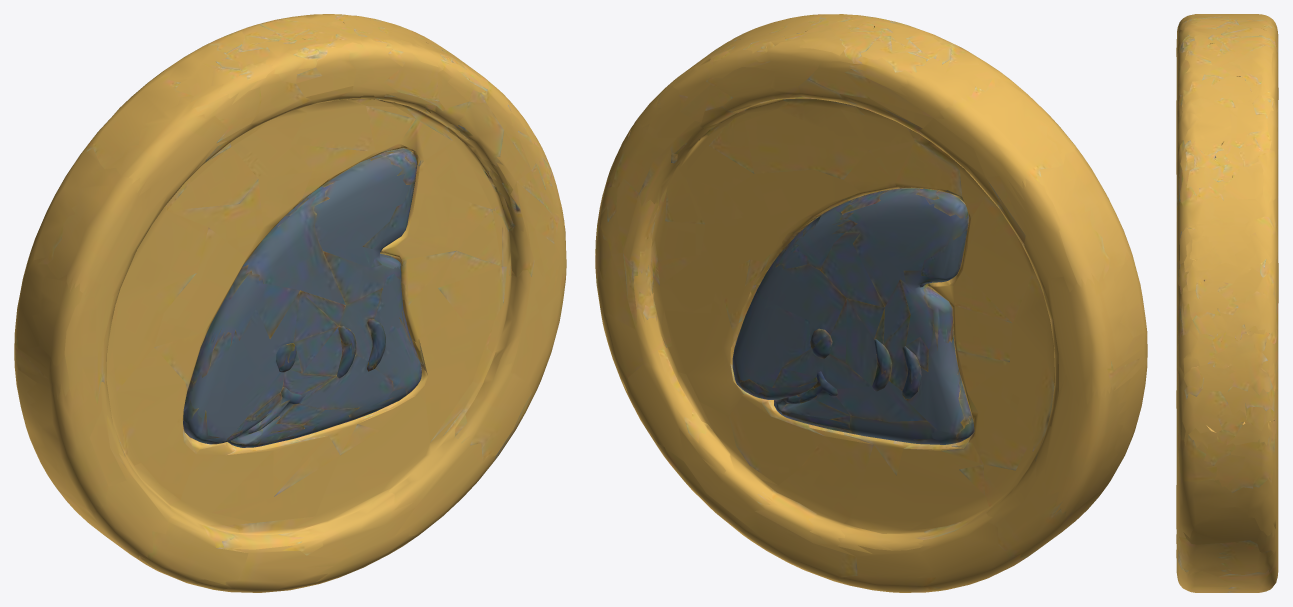
The model's file is shark-token-v2.glb.
3 renders of one model, left to right at view 1: azimuth 30°, elevation 25°; view 2: azimuth 150°, elevation 25°; view 3: azimuth 270°, elevation 25°, orthographic. The views are drawn at different scales.
Visible parts, largest first — view 1: mesh_node; view 2: mesh_node; view 3: mesh_node.
Part boxes in pixels (box(x1,y1,x2,y2)): mesh_node: box(14, 14, 566, 592); mesh_node: box(595, 14, 1147, 592); mesh_node: box(1176, 14, 1278, 592).
Bounding box in the file's own units: 1.9 × 1.9 × 0.3355.
Materials: 1 (1 with a texture image).
